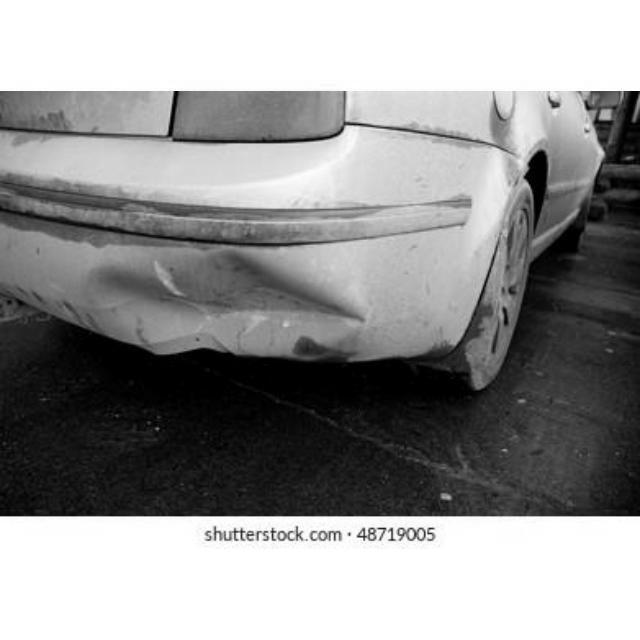rear-bumper-dent: (1, 211, 498, 384)
